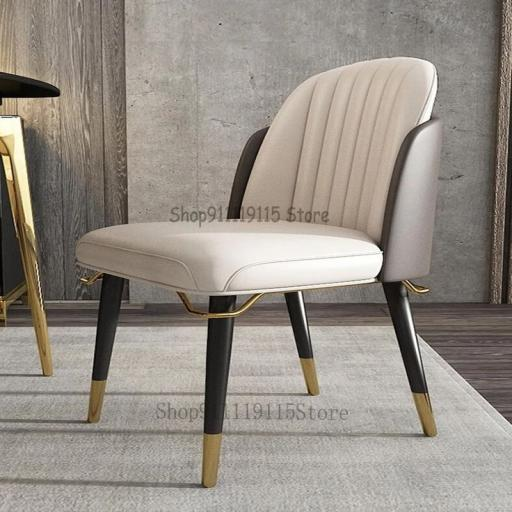chair: (68, 49, 471, 481)
